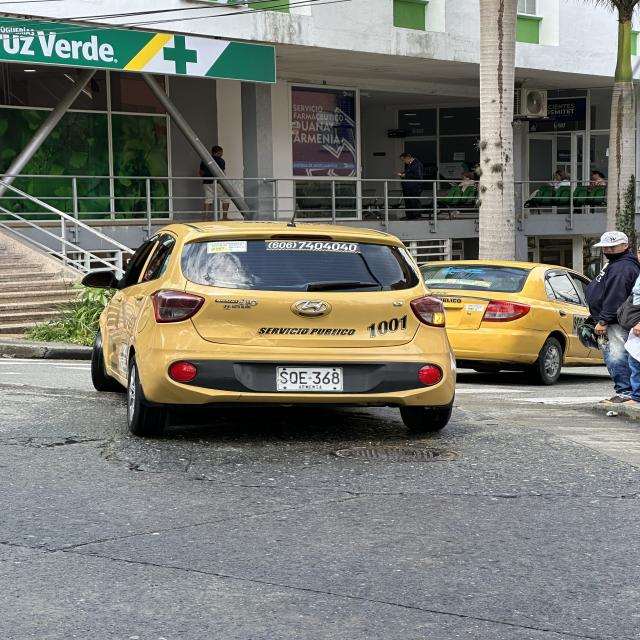number plate: (276, 367, 343, 391)
